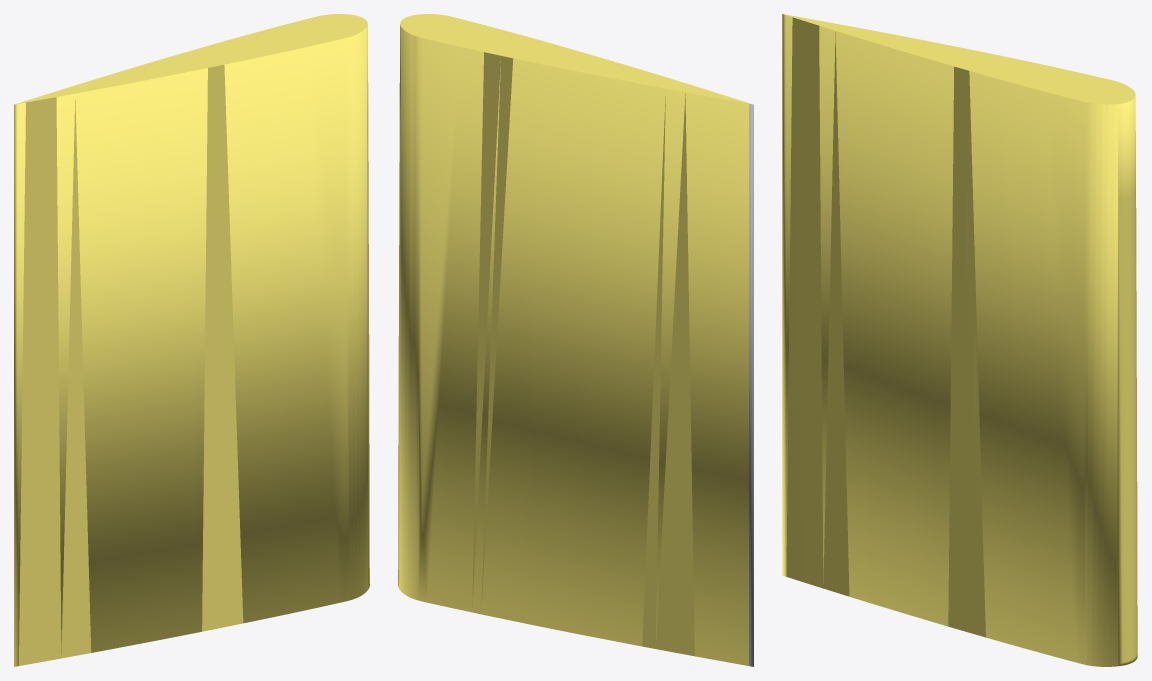
Rendered from front_fin.dae.
The picture shows the model from 3 angles, left to right: view 1: azimuth 30°, elevation 25°; view 2: azimuth 150°, elevation 25°; view 3: azimuth 330°, elevation 25°; orthographic projection.
Parts seen in each view (by area): view 1: VIFS006; view 2: VIFS006; view 3: VIFS006.
Part boxes in pixels (x1,y1,x2,y2): VIFS006: (14, 14, 369, 666); VIFS006: (398, 14, 753, 666); VIFS006: (782, 14, 1137, 666).
Size of the model in its own units: 0.088 by 0.0137 by 0.134.
